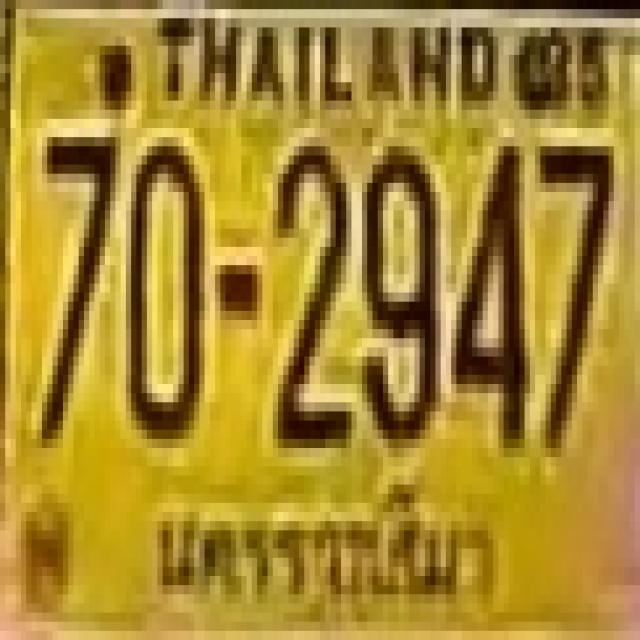0: (126, 137, 199, 430)
2: (273, 137, 346, 439)
4: (451, 137, 525, 439)
7: (42, 128, 115, 439), (535, 142, 609, 443)
9: (357, 137, 435, 439)
NMA: (159, 478, 500, 616)
